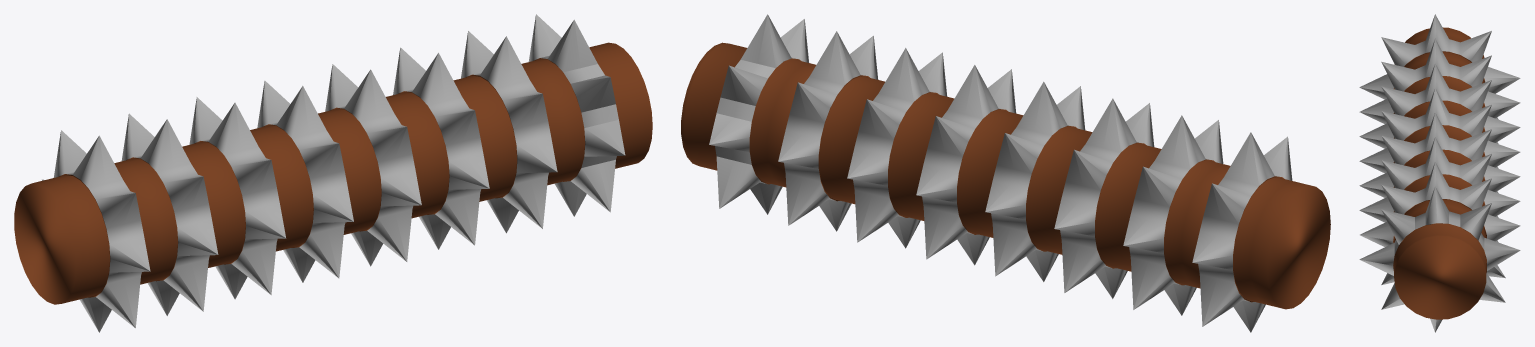
File: Troncoconpuas.fbx
3 views of the same model, side by side, from view 1: azimuth 30°, elevation 25°; view 2: azimuth 150°, elevation 25°; view 3: azimuth 270°, elevation 25° (orthographic). The views are drawn at different scales.
Parts seen in each view (by area): view 1: Cylinder; view 2: Cylinder; view 3: Cylinder.
Part boxes in pixels (x1=…): Cylinder: x1=14, y1=14, x2=652, y2=332; Cylinder: x1=681, y1=14, x2=1330, y2=332; Cylinder: x1=1359, y1=14, x2=1520, y2=332.
Size of the model in its own units: 2137 by 700 by 699.
